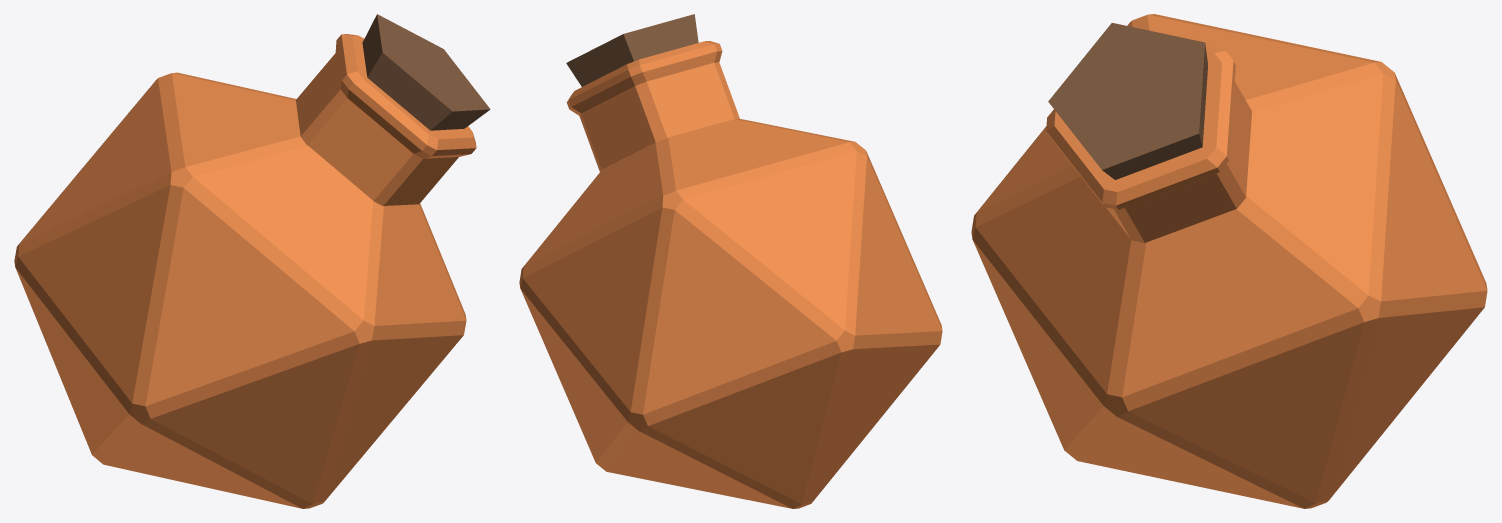
Rendered from Potion_03_Orange.fbx.
The picture shows the model from 3 angles, left to right: view 1: azimuth 30°, elevation 25°; view 2: azimuth 150°, elevation 25°; view 3: azimuth 270°, elevation 25°; orthographic projection. The views are drawn at different scales.
Visible parts, largest first — view 1: Icosphere.002, Cylinder.016, Cylinder.017; view 2: Icosphere.002, Cylinder.016, Cylinder.017; view 3: Icosphere.002, Cylinder.017, Cylinder.016.
Part boxes in pixels (x1,y1,x2,y2): Icosphere.002: (14,72,466,508); Cylinder.016: (295,34,476,206); Cylinder.017: (362,14,490,130); Icosphere.002: (519,119,942,508); Cylinder.016: (566,41,739,171); Cylinder.017: (566,14,698,86); Icosphere.002: (971,14,1487,508); Cylinder.017: (1048,23,1208,179); Cylinder.016: (1046,46,1251,242).
Size of the model in its own units: 22.22 by 24.31 by 23.44.
